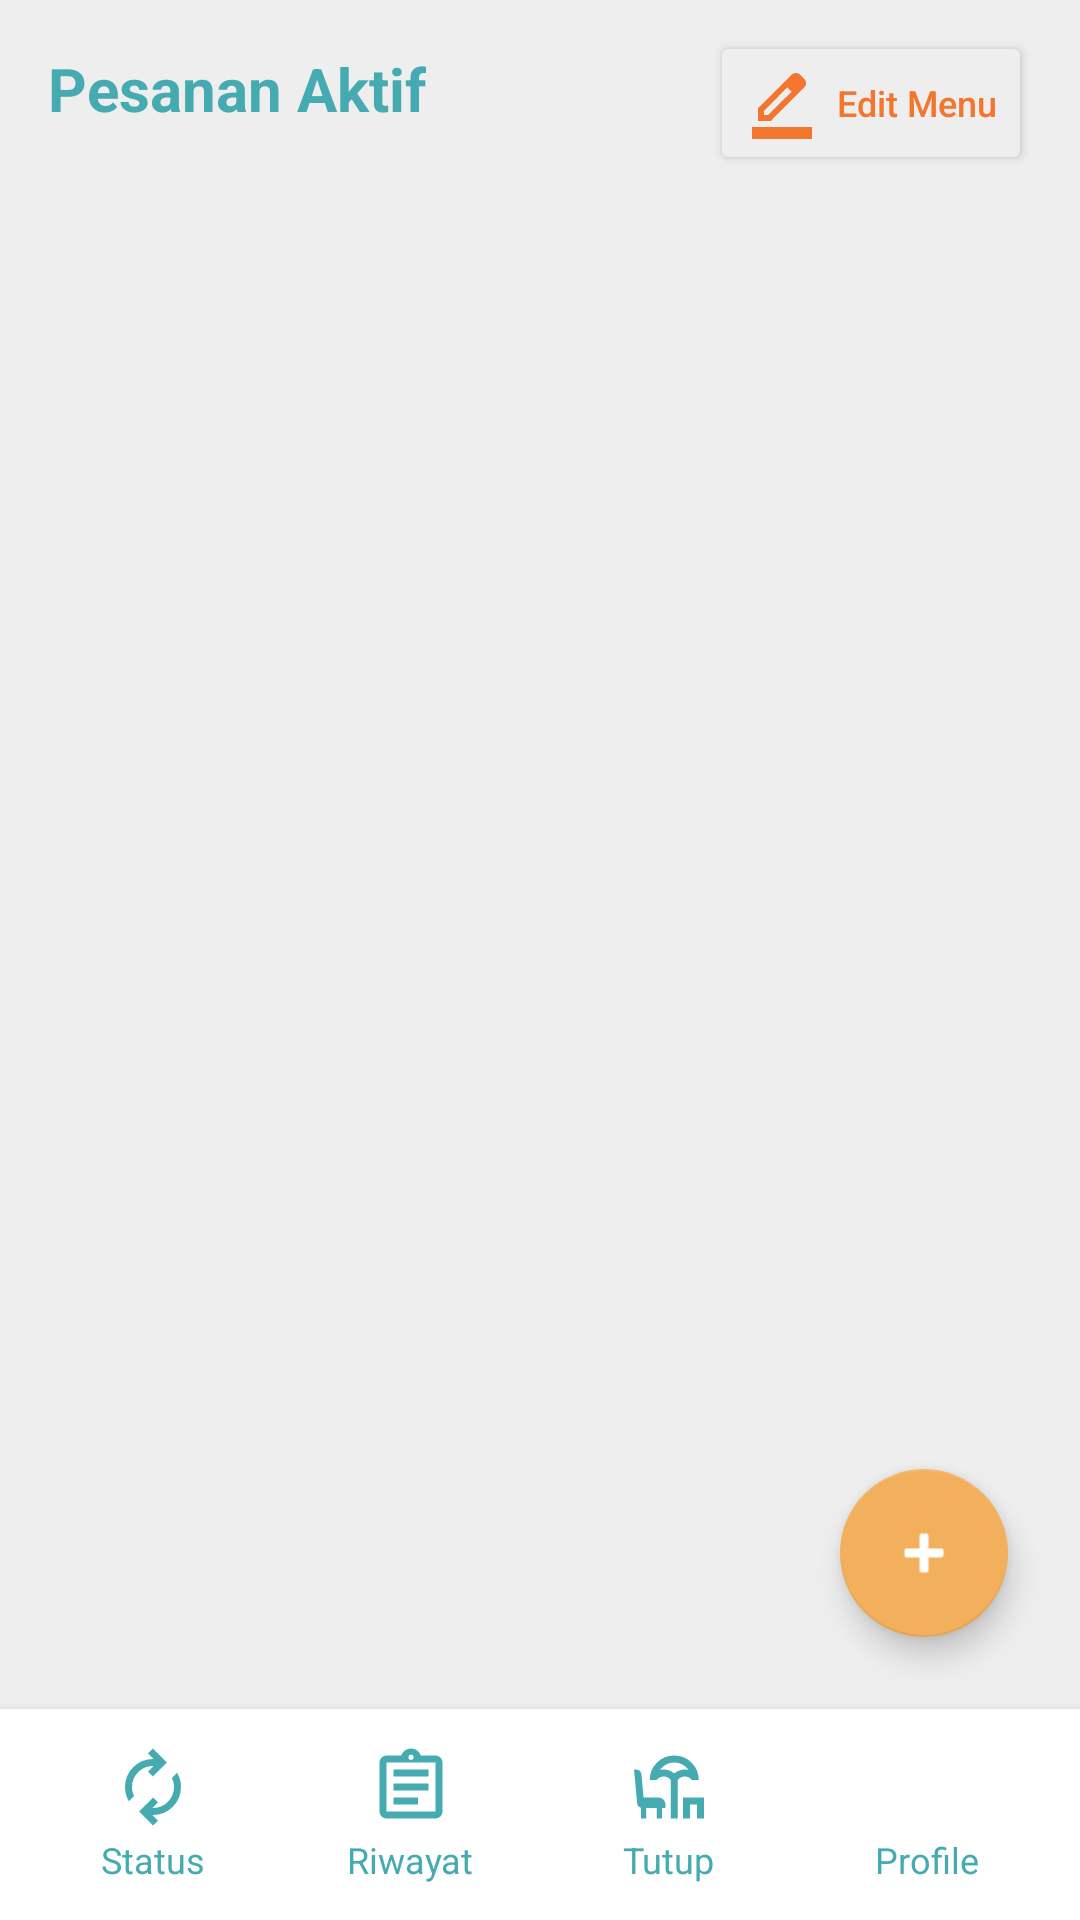

Locate icon controls on the screen. Image size 1080px x 1920px, boxes as {"left": x1, "top": y1, "right": x2, "bottom": y2}.
Tambah: {"left": 840, "top": 1469, "right": 1008, "bottom": 1637}
